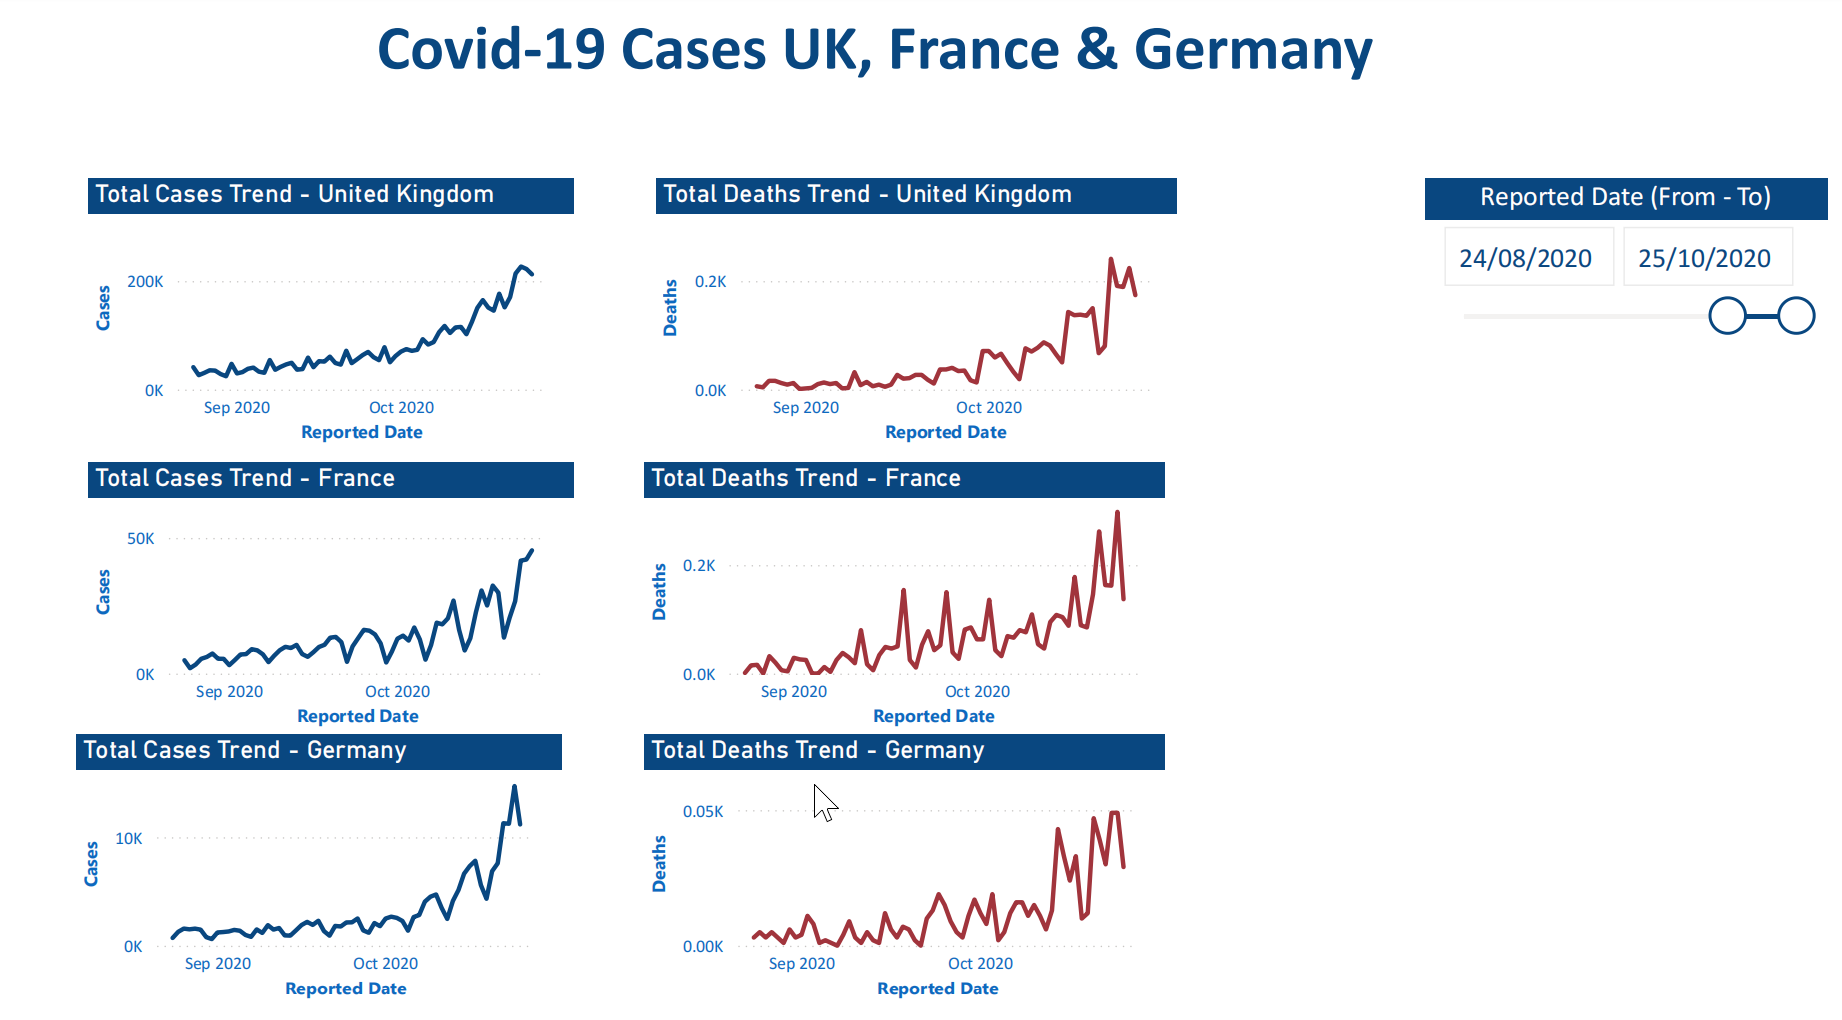

What the dashboard file says about the page in this screenshot:
{"tool":"powerbi","page":{"name":"Trends - Country","canvas":[1280,720],"ordinal":1},"visuals":[{"type":"lineChart","title":"Total Cases Trend - United Kingdom","fields":{"Category":["covid_reporting cases_and_deaths.reported_date"],"Y":["Sum(covid_reporting cases_and_deaths.cases_count)"]},"box":[104,120,328,184],"z":0},{"type":"slicer","title":"Reported Date (From - To)","fields":{"Values":["covid_reporting cases_and_deaths.reported_date"]},"box":[1008,120,272,112],"z":1000},{"type":"lineChart","title":"Total Cases Trend - France","fields":{"Category":["covid_reporting cases_and_deaths.reported_date"],"Y":["Sum(covid_reporting cases_and_deaths.cases_count)"]},"box":[104,312,328,184],"z":2000},{"type":"lineChart","title":"Total Cases Trend - Germany","fields":{"Category":["covid_reporting cases_and_deaths.reported_date"],"Y":["Sum(covid_reporting cases_and_deaths.cases_count)"]},"box":[96,496,328,184],"z":3000},{"type":"lineChart","title":"Total Deaths Trend - United Kingdom","fields":{"Category":["covid_reporting cases_and_deaths.reported_date"],"Y":["Sum(covid_reporting cases_and_deaths.deaths_count)"]},"box":[488,120,352,184],"z":4000},{"type":"lineChart","title":"Total Deaths Trend - France","fields":{"Category":["covid_reporting cases_and_deaths.reported_date"],"Y":["Sum(covid_reporting cases_and_deaths.deaths_count)"]},"box":[480,312,352,184],"z":5000},{"type":"lineChart","title":"Total Deaths Trend - Germany","fields":{"Category":["covid_reporting cases_and_deaths.reported_date"],"Y":["Sum(covid_reporting cases_and_deaths.deaths_count)"]},"box":[480,496,352,184],"z":6000},{"type":"textbox","box":[240,0,792,64],"z":7000}]}

Visuals, with their boxes in screenshot pixels (x1, y1, x2, y2), scaled from the page's 1280x720 canvas onto the 1842x1020 screenshot:
"Total Cases Trend - United Kingdom" lineChart: bbox=(150, 170, 622, 431)
"Reported Date (From - To)" slicer: bbox=(1451, 170, 1841, 329)
"Total Cases Trend - France" lineChart: bbox=(150, 442, 622, 703)
"Total Cases Trend - Germany" lineChart: bbox=(138, 703, 610, 963)
"Total Deaths Trend - United Kingdom" lineChart: bbox=(702, 170, 1209, 431)
"Total Deaths Trend - France" lineChart: bbox=(691, 442, 1197, 703)
"Total Deaths Trend - Germany" lineChart: bbox=(691, 703, 1197, 963)
textbox: bbox=(345, 0, 1485, 91)
